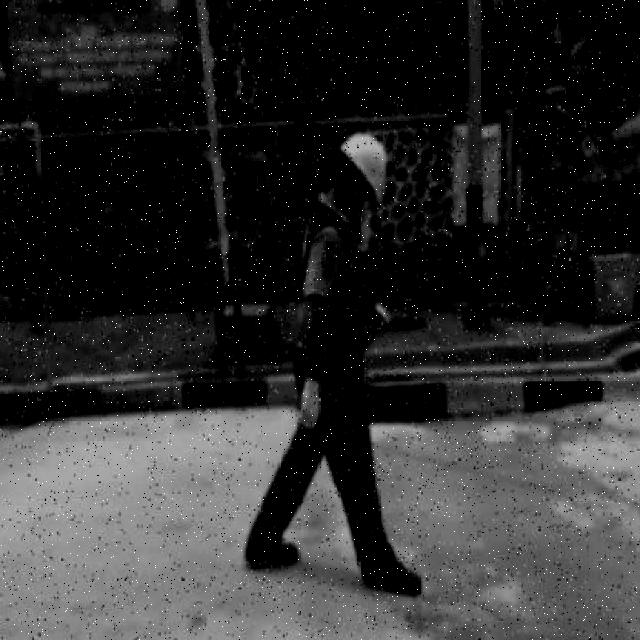Boots: (360, 553, 425, 598), (242, 526, 302, 574)
Gloves: (292, 370, 323, 433), (373, 302, 396, 331)
Helmet: (336, 128, 390, 207)
Mask: (283, 216, 382, 362)
